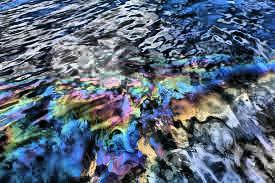rainbow: (0, 65, 239, 182)
sheen: (0, 1, 160, 80)
